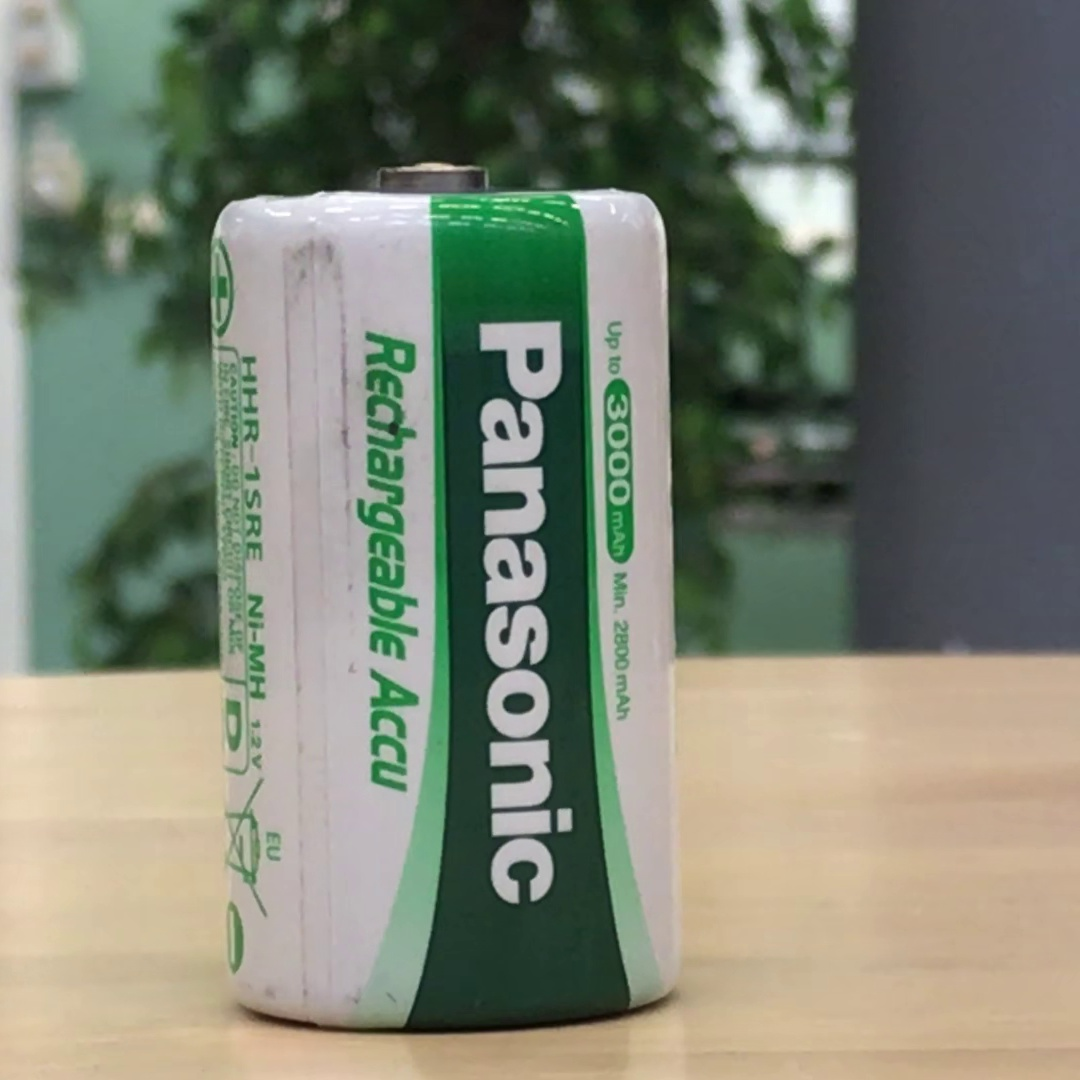keyword: (239, 585, 274, 681)
